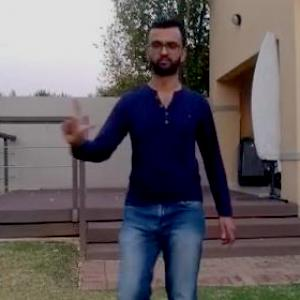land_hand: (52, 91, 98, 151)
